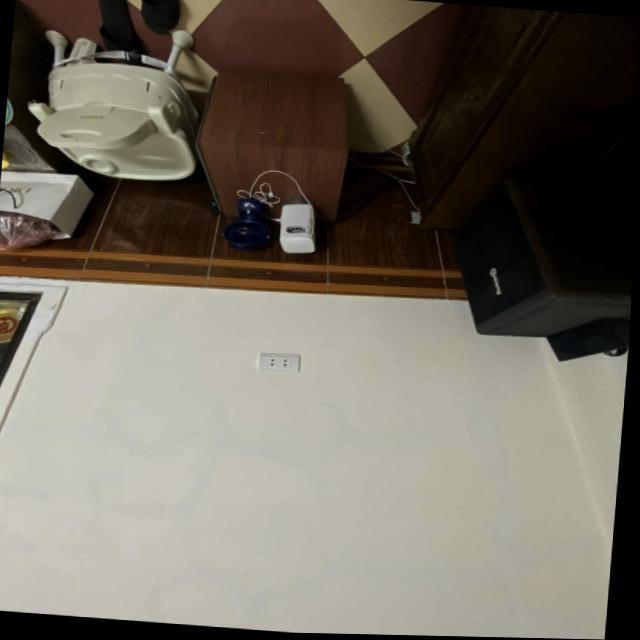outlet: (258, 351, 301, 373)
